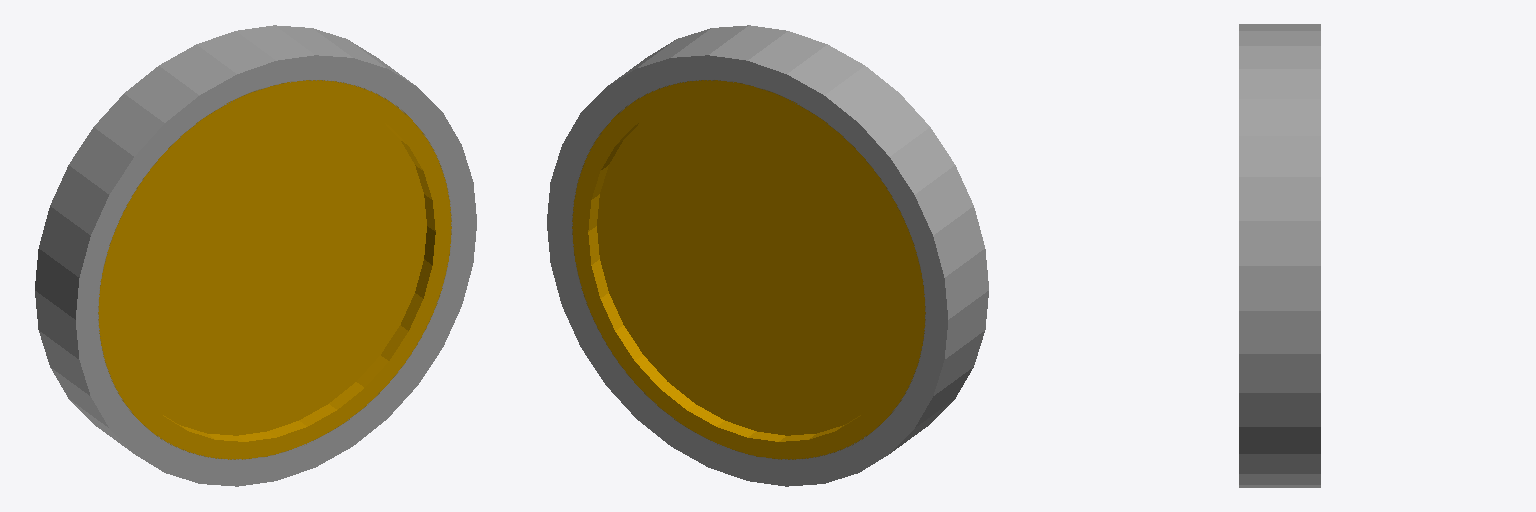
The picture shows the model from 3 angles: view 1: azimuth 30°, elevation 25°; view 2: azimuth 150°, elevation 25°; view 3: azimuth 270°, elevation 25°; orthographic projection.
Parts seen in each view (by area): view 1: Cylinder; view 2: Cylinder; view 3: Cylinder.
Part boxes in pixels (x1,y1,x2,y2): Cylinder: (35,25,476,486); Cylinder: (547,25,988,486); Cylinder: (1239,24,1320,487).
Bounding box in the file's own units: 0.9997 × 0.9997 × 0.1761.
Materials: 1 (1 with a texture image).